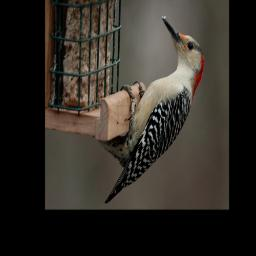Woodpecker: (97, 15, 205, 205)
